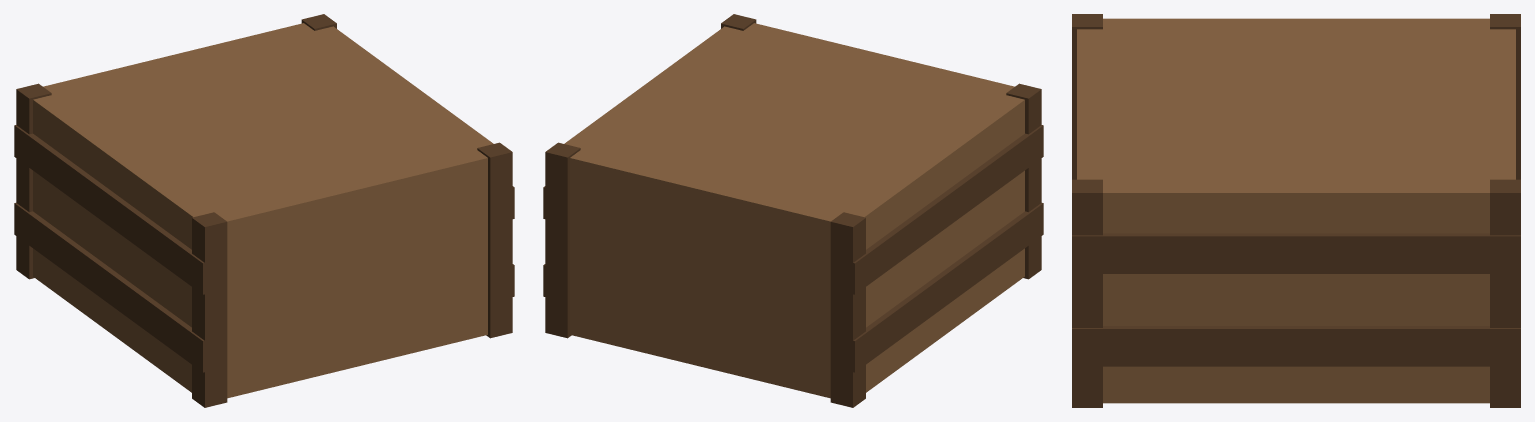
Rendered from item-crate.glb.
The picture shows the model from 3 angles, left to right: view 1: azimuth 30°, elevation 25°; view 2: azimuth 150°, elevation 25°; view 3: azimuth 270°, elevation 25°; orthographic projection. The views are drawn at different scales.
Visible parts, largest first — view 1: 00_#8a6440_r320, 02_#5a3e26_r320, 01_#5a3e26_r110; view 2: 00_#8a6440_r320, 02_#5a3e26_r320, 01_#5a3e26_r110; view 3: 00_#8a6440_r320, 02_#5a3e26_r320, 01_#5a3e26_r110.
Boxes of the visible parts, left/top/right/bottom form: 00_#8a6440_r320: left=33, top=23, right=493, bottom=398; 02_#5a3e26_r320: left=14, top=125, right=514, bottom=372; 01_#5a3e26_r110: left=16, top=14, right=512, bottom=407; 00_#8a6440_r320: left=564, top=23, right=1024, bottom=398; 02_#5a3e26_r320: left=543, top=125, right=1043, bottom=372; 01_#5a3e26_r110: left=545, top=14, right=1041, bottom=407; 00_#8a6440_r320: left=1077, top=18, right=1515, bottom=403; 02_#5a3e26_r320: left=1072, top=233, right=1520, bottom=366; 01_#5a3e26_r110: left=1072, top=14, right=1520, bottom=407.
Size of the model in its own units: 0.83 by 0.46 by 0.87.
